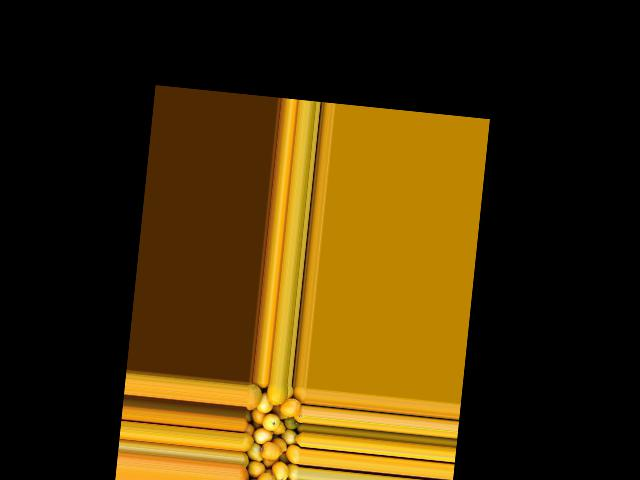lemon: (283, 442, 300, 464)
